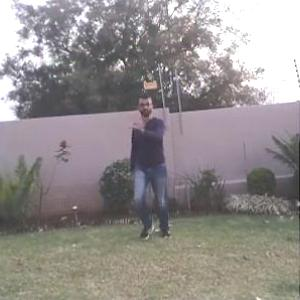follow_hand: (127, 113, 148, 135)
